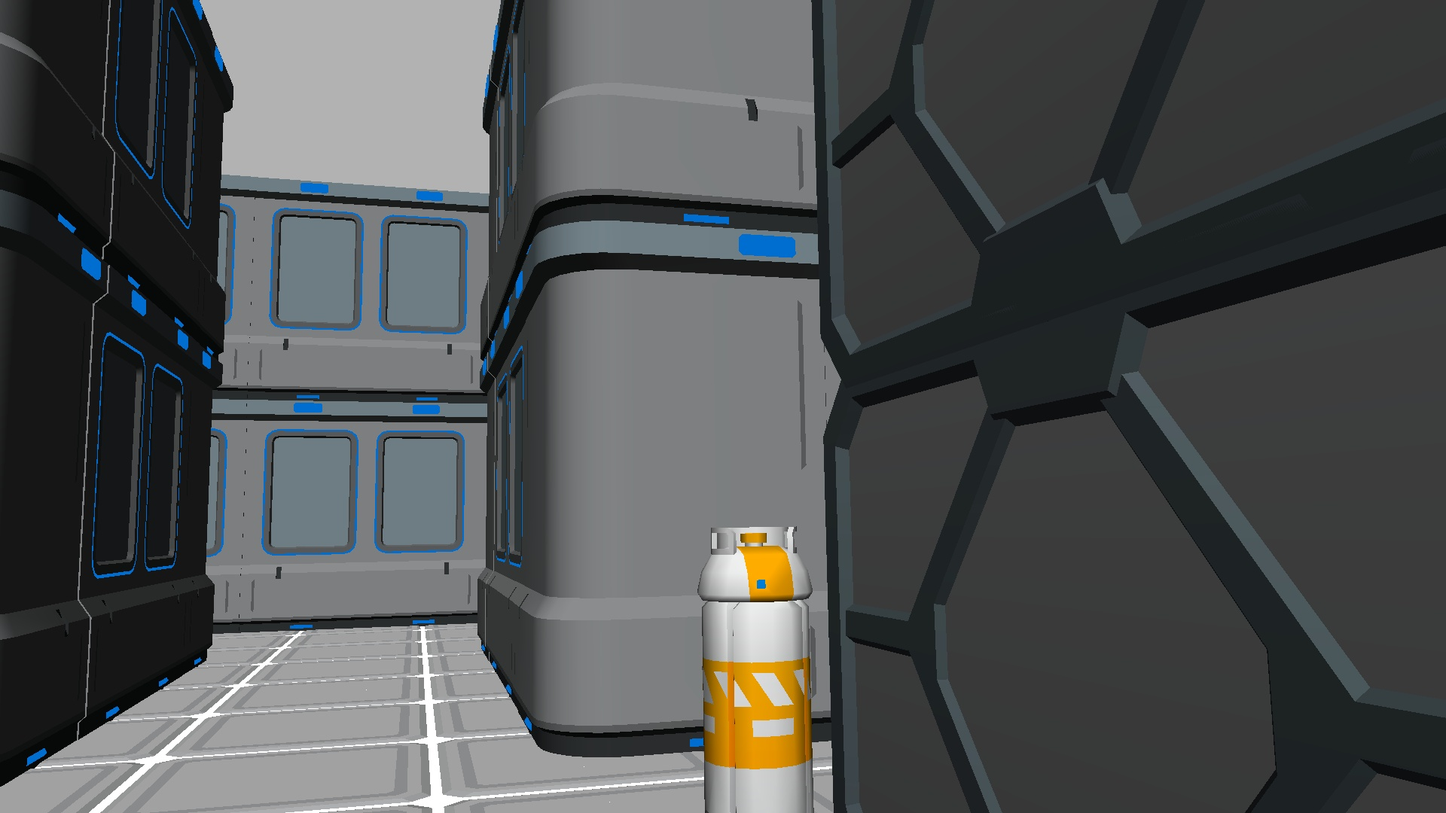yellow barrel: (696, 525, 813, 813)
